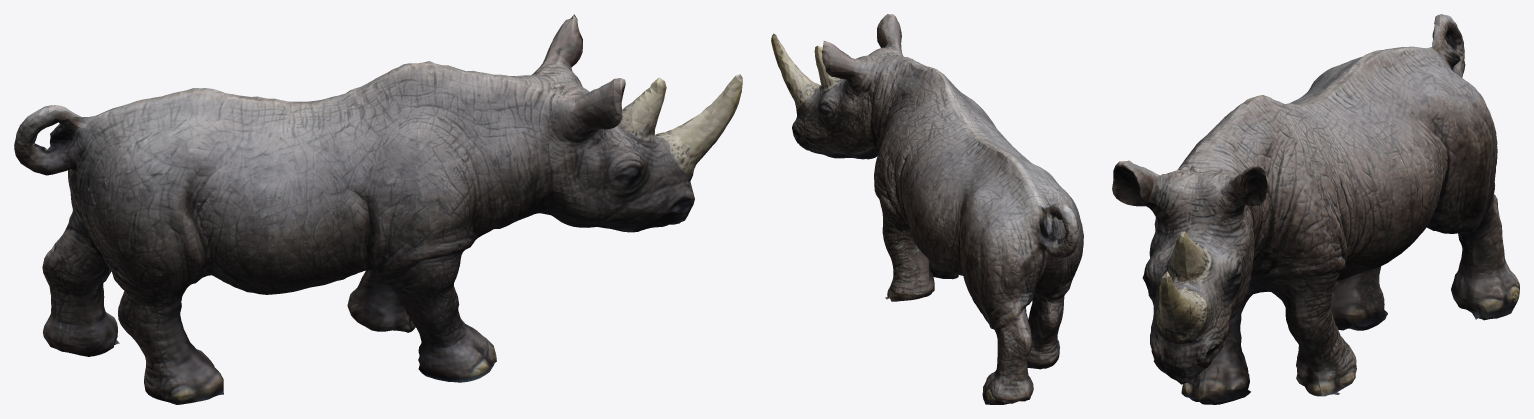
Rendered from sarvikuono_sculpt_retopo.obj.
3 views of the same model, side by side, from view 1: azimuth 30°, elevation 25°; view 2: azimuth 150°, elevation 25°; view 3: azimuth 270°, elevation 25° (orthographic). The views are drawn at different scales.
Bounding box in the file's own units: 8.44 × 4.63 × 5.32.
1 material, 1 textured.
